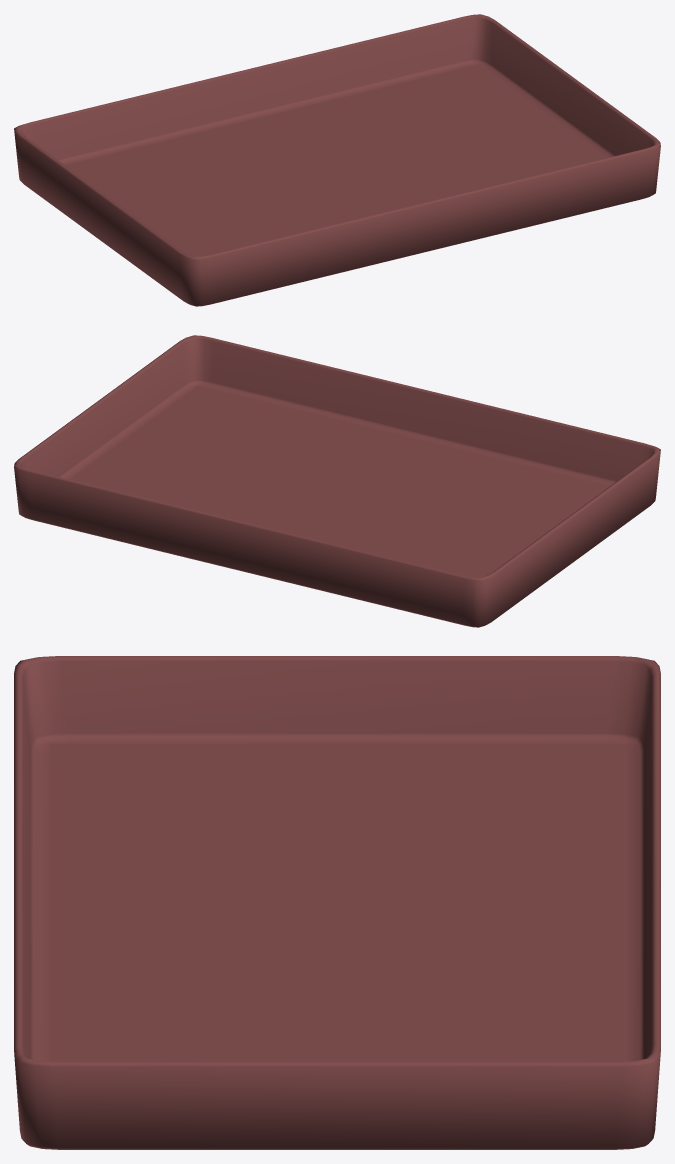
File: Tray.fbx
The picture shows the model from 3 angles, top to bottom: view 1: azimuth 30°, elevation 25°; view 2: azimuth 150°, elevation 25°; view 3: azimuth 270°, elevation 25°; orthographic projection. The views are drawn at different scales.
Visible parts, largest first — view 1: Tray; view 2: Tray; view 3: Tray.
Part boxes in pixels (x1,y1,x2,y2): Tray: (14, 14, 660, 306); Tray: (14, 335, 660, 627); Tray: (14, 656, 660, 1149).
Bounding box in the file's own units: 30 × 20 × 3.1.
